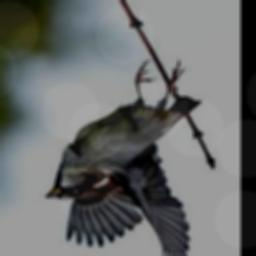Sparrow: (45, 61, 201, 256)
